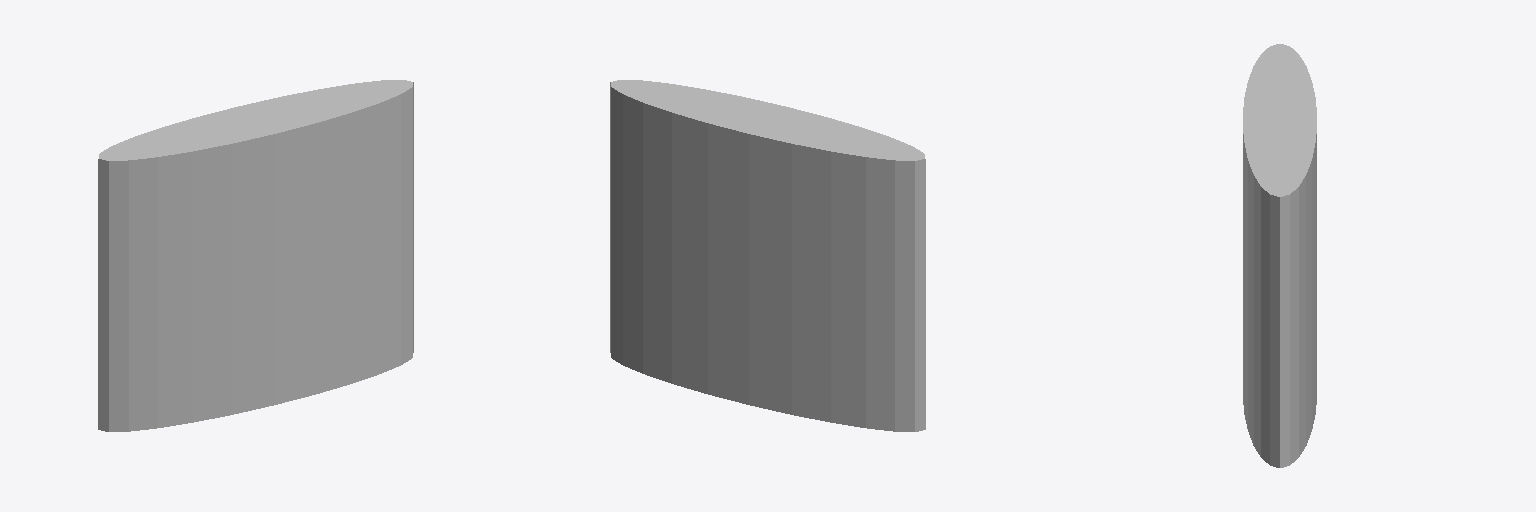
The model's file is elipse.obj.
The picture shows the model from 3 angles: view 1: azimuth 30°, elevation 25°; view 2: azimuth 150°, elevation 25°; view 3: azimuth 270°, elevation 25°; orthographic projection.
Parts seen in each view (by area): view 1: Ellipse_01; view 2: Ellipse_01; view 3: Ellipse_01.
Part boxes in pixels (left/top/right/bottom): Ellipse_01: left=98, top=80, right=413, bottom=431; Ellipse_01: left=610, top=80, right=925, bottom=431; Ellipse_01: left=1243, top=44, right=1316, bottom=467.
Size of the model in its own units: 7.74 by 6.37 by 1.59.